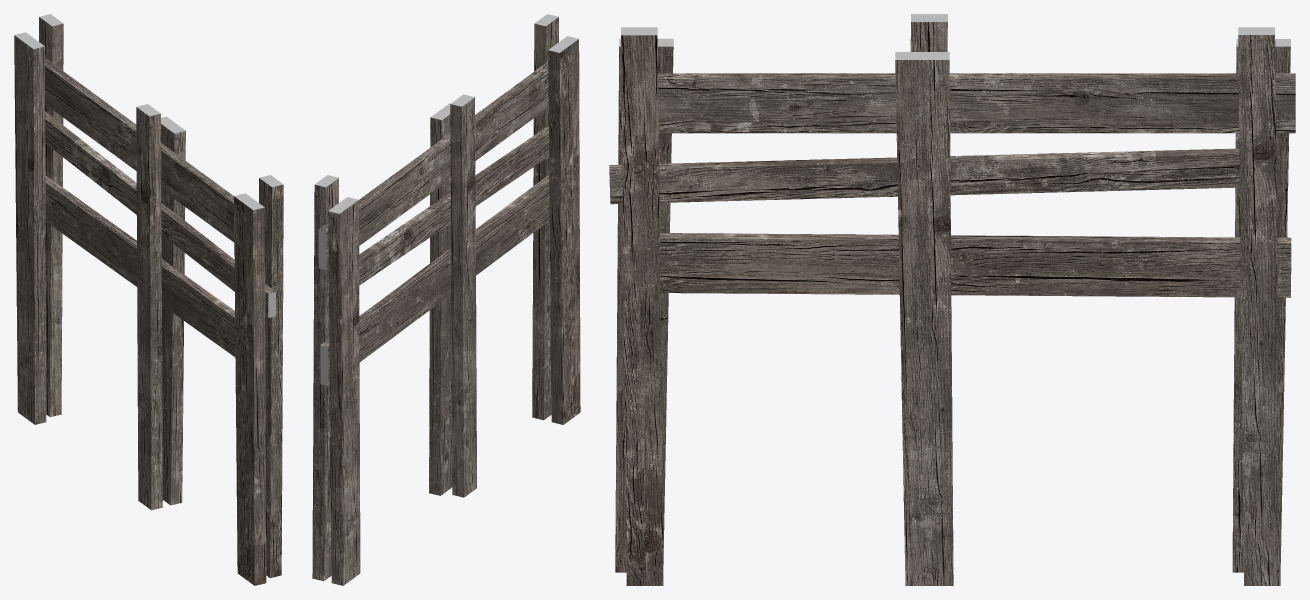
File: Fence1A_LOD1.fbx
3 renders of one model, left to right at view 1: azimuth 30°, elevation 25°; view 2: azimuth 150°, elevation 25°; view 3: azimuth 270°, elevation 25°, orthographic. The views are drawn at different scales.
Visible parts, largest first — view 1: polySurface631; view 2: polySurface631; view 3: polySurface631.
Boxes of the visible parts, left/top/right/bottom form: polySurface631: left=14, top=14, right=283, bottom=585; polySurface631: left=312, top=14, right=580, bottom=585; polySurface631: left=609, top=14, right=1295, bottom=585.
Bounding box in the file's own units: 0.1682 × 2.03 × 2.29.
